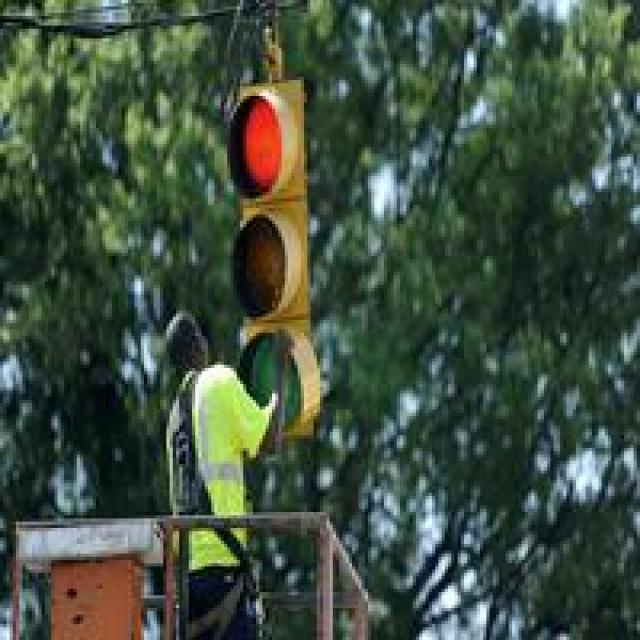red_light: (204, 100, 336, 201), (209, 104, 341, 201)
